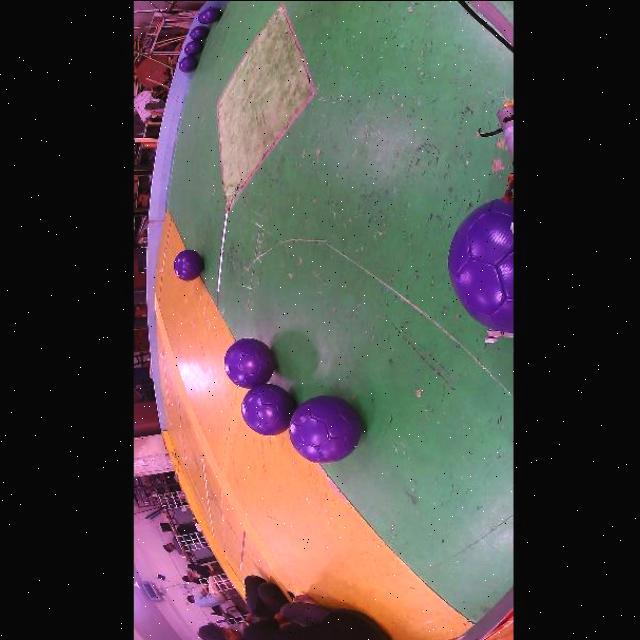P: (447, 197, 513, 333), (289, 394, 360, 463), (240, 384, 295, 435), (224, 337, 274, 388), (172, 249, 203, 281), (178, 55, 196, 72), (201, 7, 220, 23), (183, 39, 201, 55), (188, 25, 207, 40), (196, 12, 205, 23)
